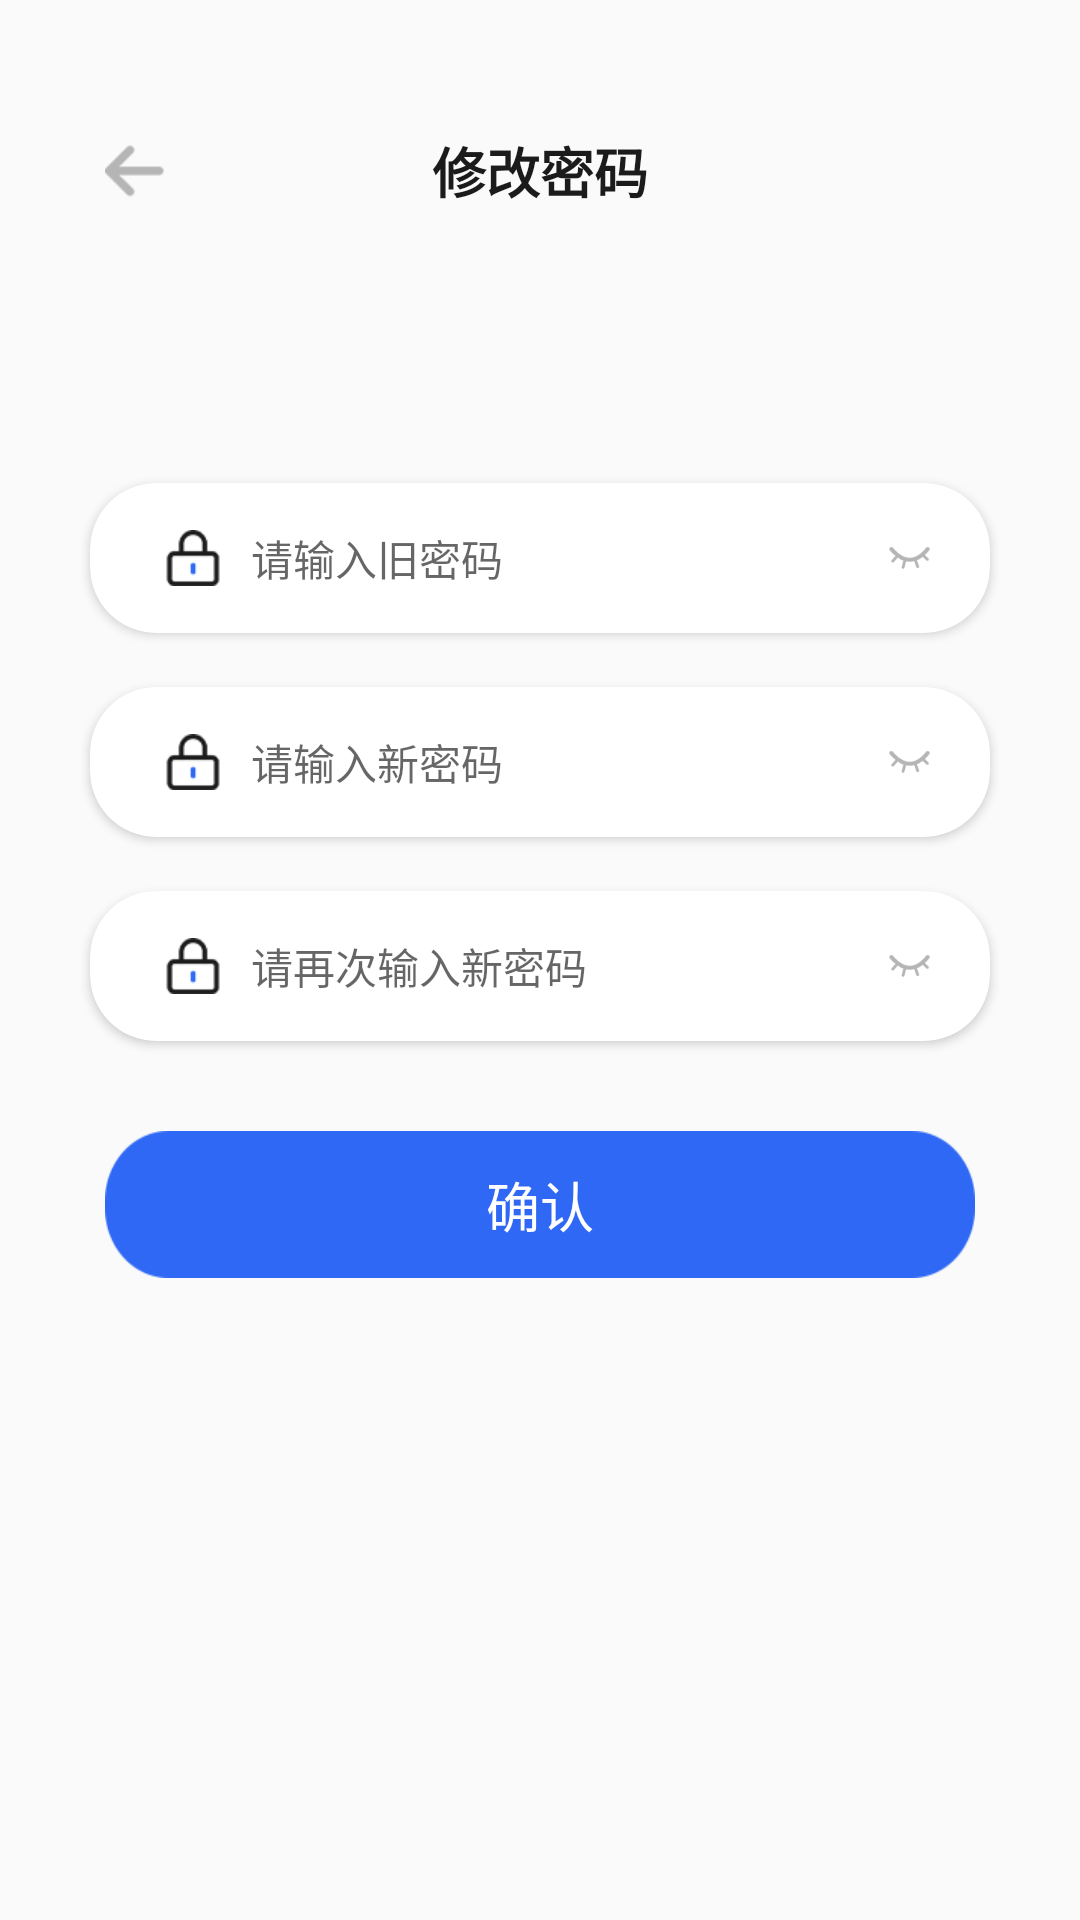

Where to tap for icons on this 1080×1920 app screen, as (x=x, y=y):
denglu password: (x=193, y=558), (x=193, y=762), (x=193, y=966)
login jiantou back: (x=134, y=170)
